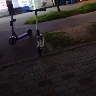beam: (5, 4, 34, 46)
gcooter: (24, 8, 50, 57)
